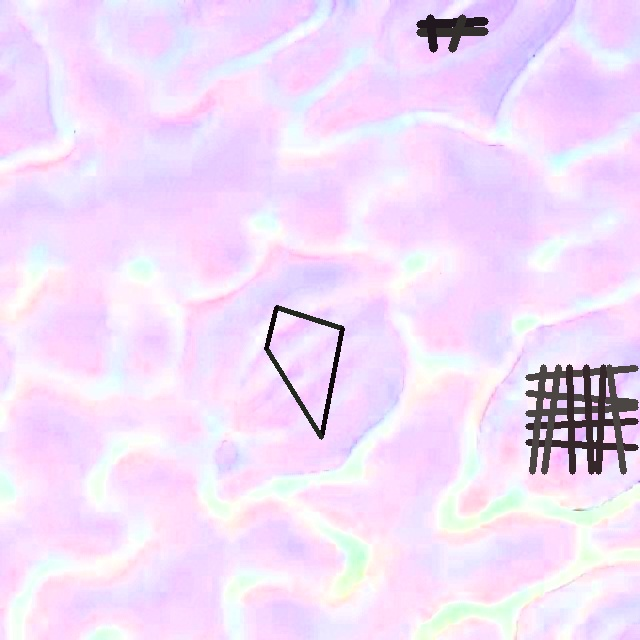open: (525, 364, 638, 474), (264, 305, 344, 439), (416, 15, 488, 52)
